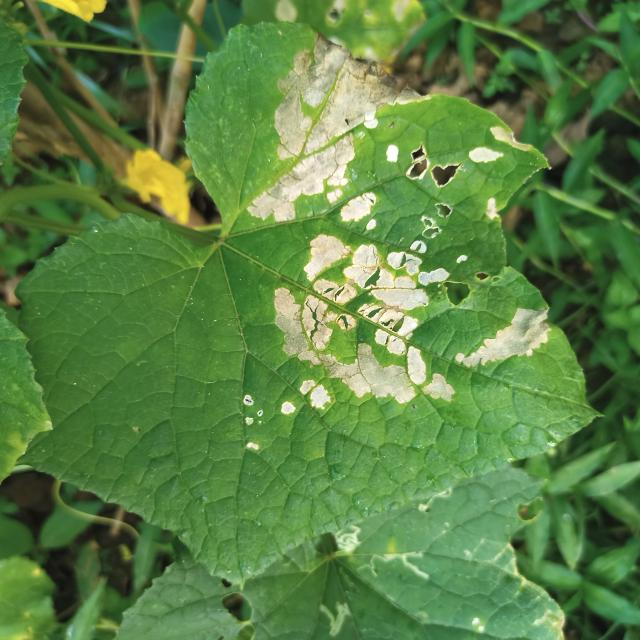disease_cucumber: (238, 41, 530, 229), (274, 228, 552, 418), (235, 387, 272, 454)
